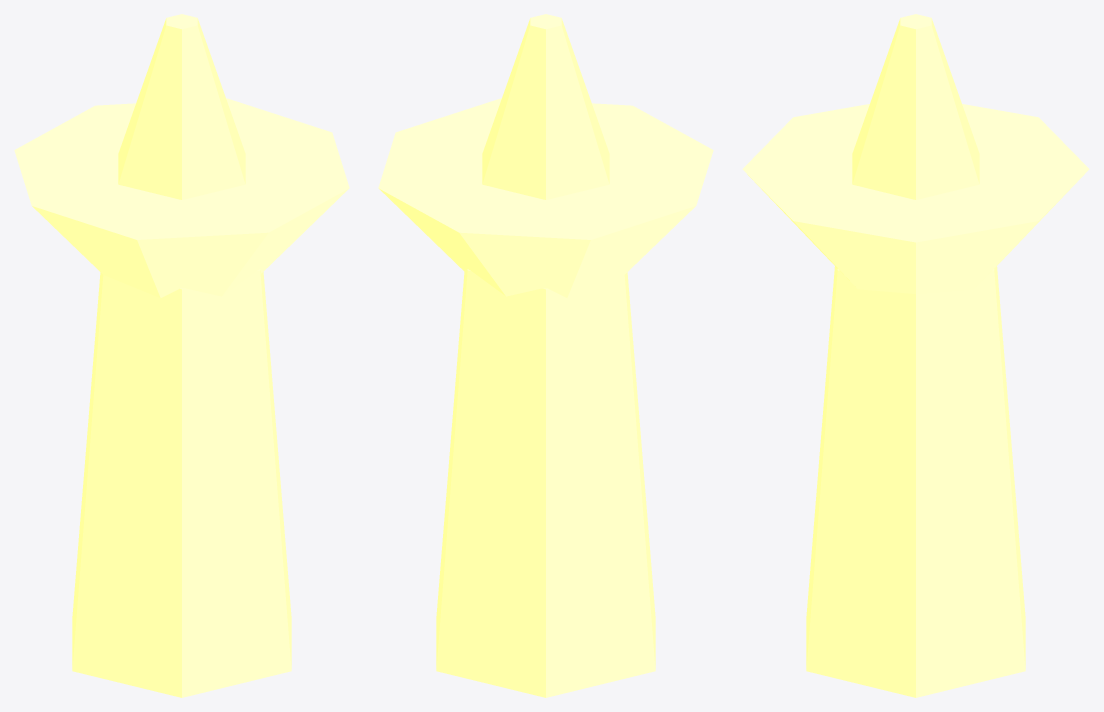
File: torch_brazier.glb
3 renders of one model, left to right at view 1: azimuth 30°, elevation 25°; view 2: azimuth 150°, elevation 25°; view 3: azimuth 270°, elevation 25°, orthographic.
Visible parts, largest first — view 1: TorchBrazier; view 2: TorchBrazier; view 3: TorchBrazier.
Part boxes in pixels (x1,y1,x2,y2): TorchBrazier: [14, 14, 349, 697]; TorchBrazier: [378, 14, 713, 697]; TorchBrazier: [742, 14, 1089, 697].
Size of the model in its own units: 0.96 by 1.9 by 0.96.
